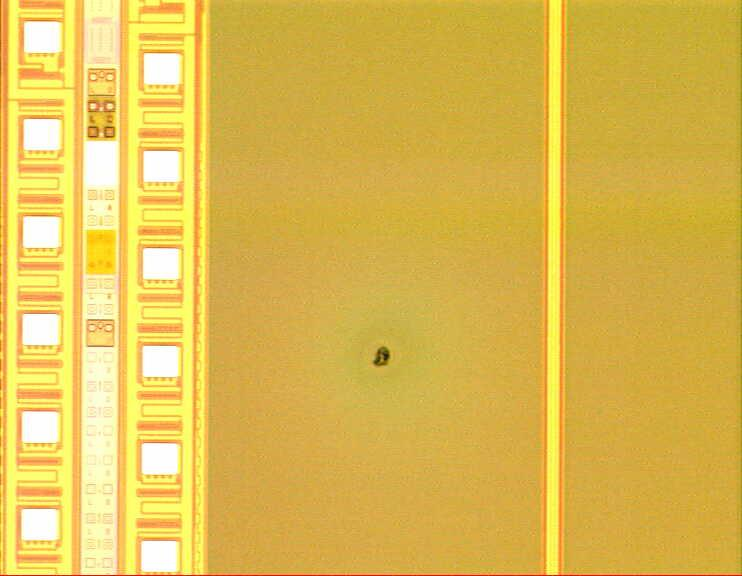PIQ PARTICLE: (367, 343, 401, 373)
